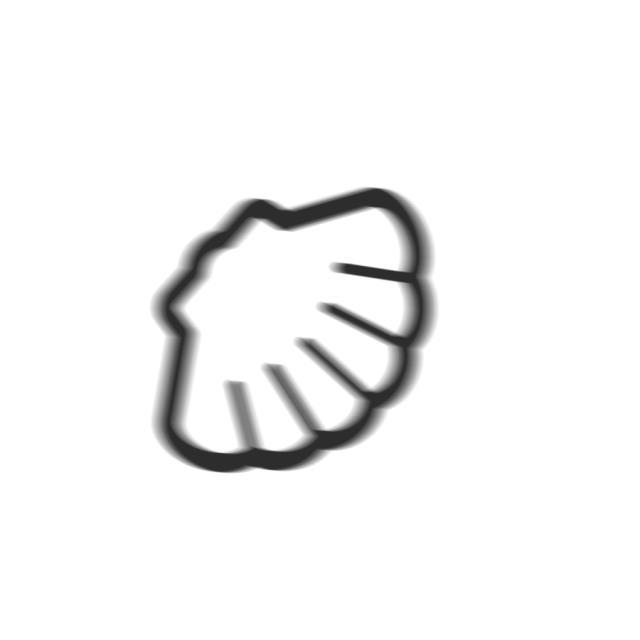shell: (144, 182, 447, 483)
